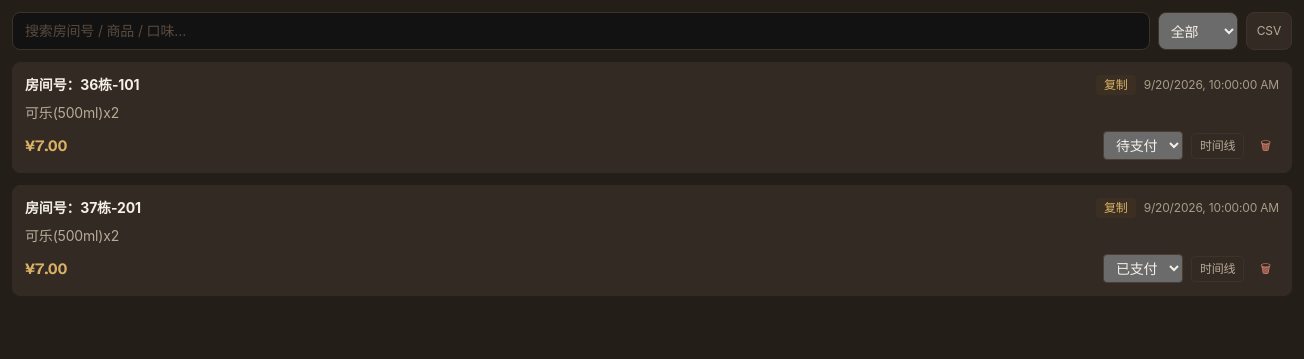
Test: 状态流转 › 服务端拒绝（code!=0）→ notice 展示服务端 message，不刷新列表
Select "已取消" in the dropdown named "订单 36栋-101 的状态" at (1143, 146), box [1103,131,1183,160]
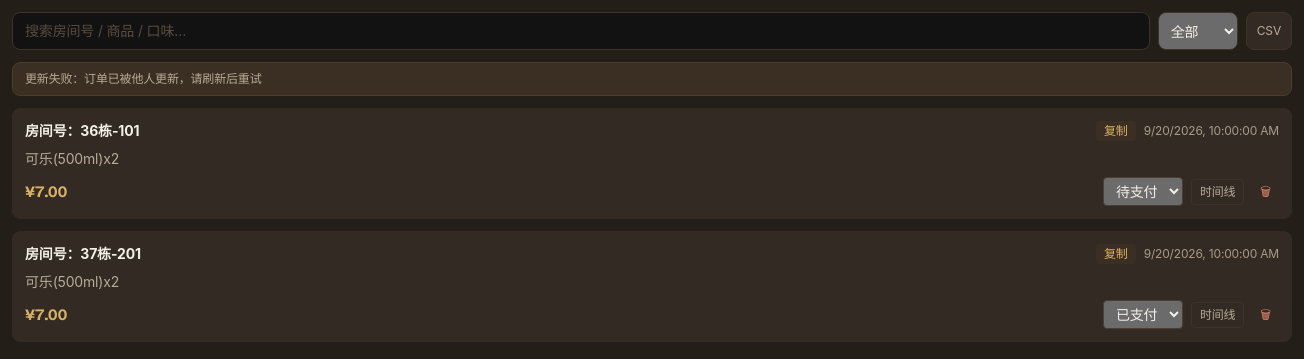
Expected: the message shows "订单已被他人更新", [25,71,262,86]
